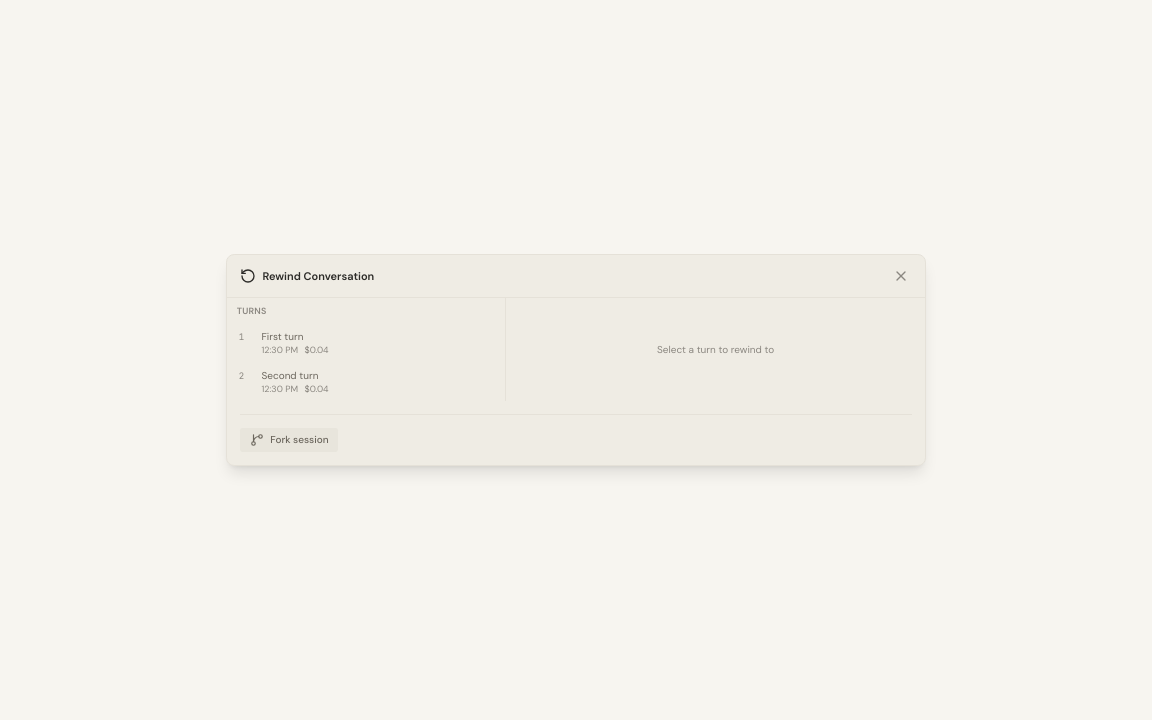
Test case: RewindMenu › selects a turn on click and shows action panel
Click the text "Second turn" at coordinates (290, 375), box [262,369,318,382]
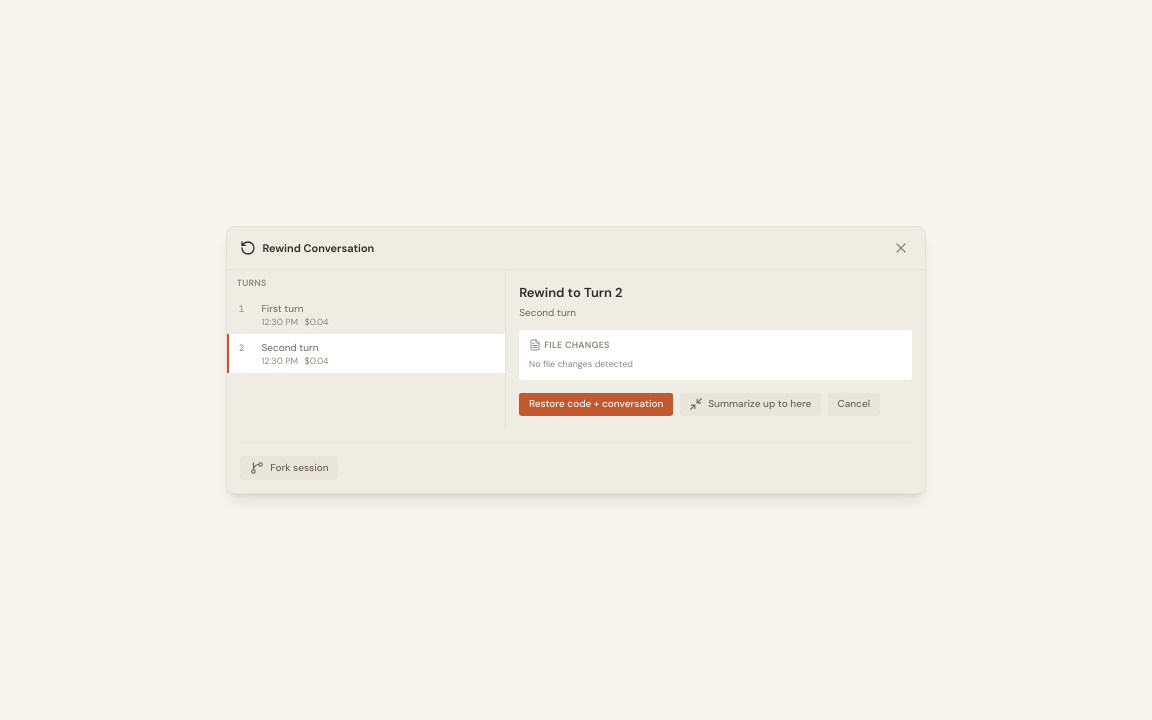
Now the button "Restore code + conversation" is shown, box [519,392,673,416]
Now the button "Cancel" is shown, box [828,392,880,416]
